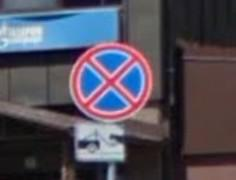No Parking: (70, 42, 154, 124)
